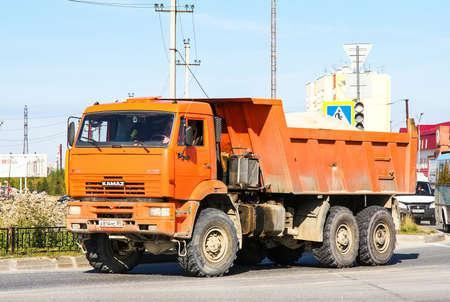dump truck: (59, 91, 420, 276)
